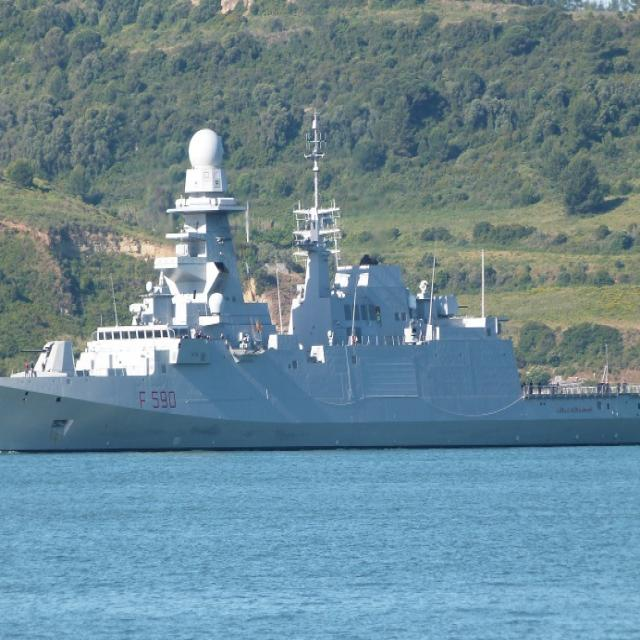Fragata: (1, 100, 640, 465)
